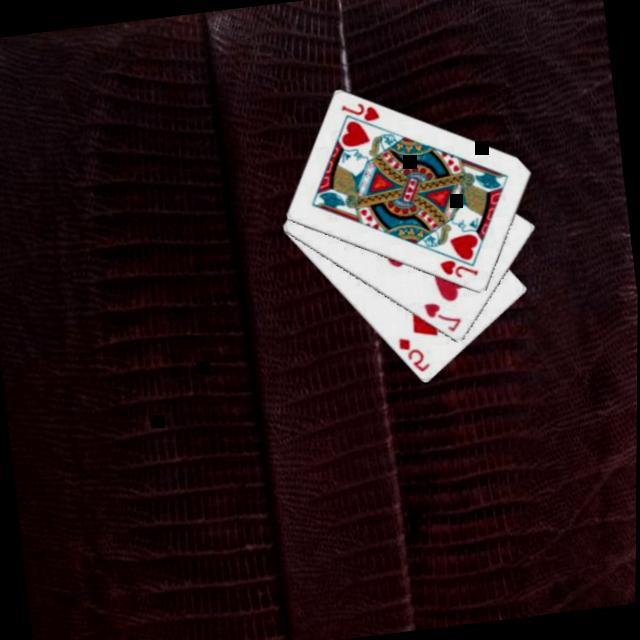5D: (396, 331, 436, 376)
7H: (422, 294, 468, 338)
JH: (438, 252, 483, 281), (340, 97, 384, 126)
